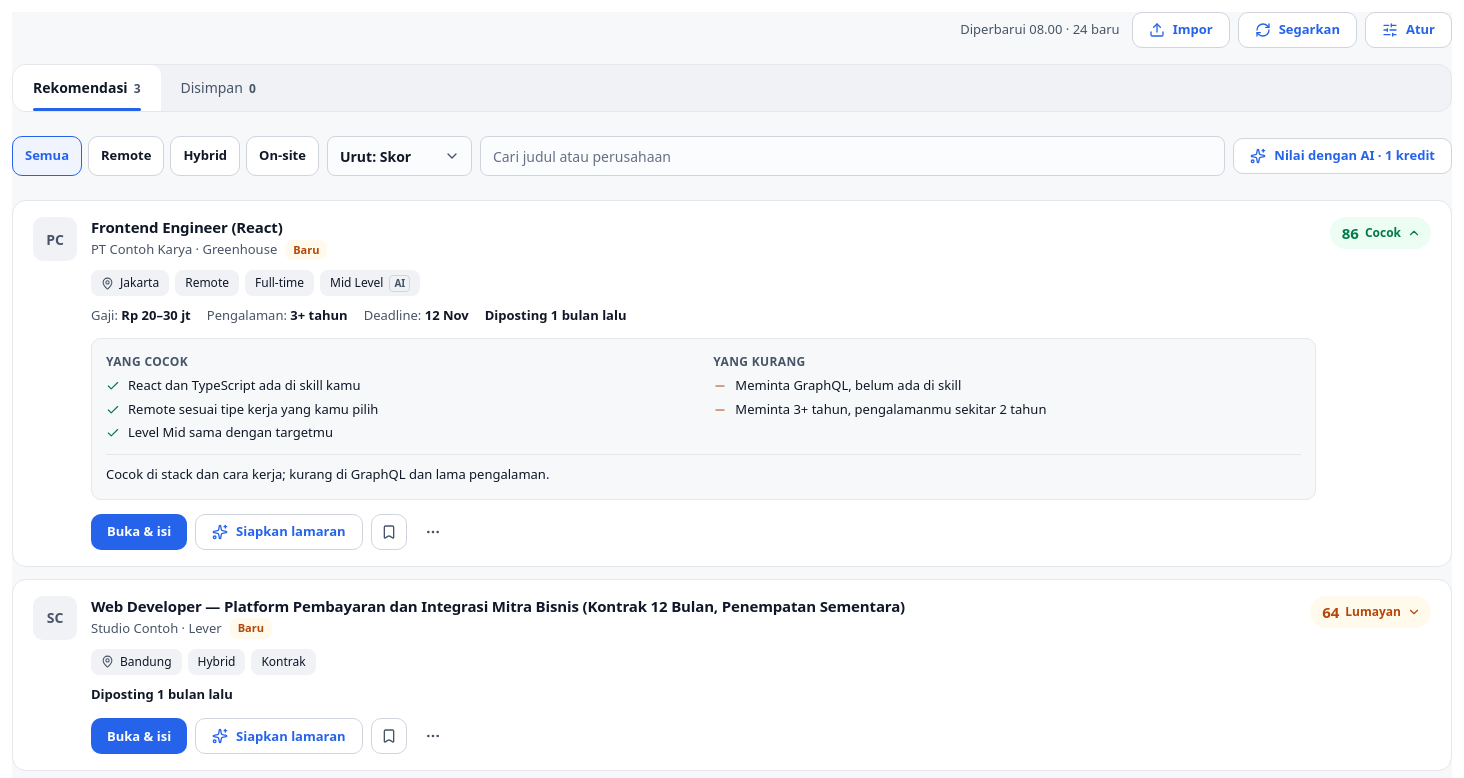
Test: JobsPage: Nilai dengan AI › shows a refusal as it came
Click the button "Nilai dengan AI · 1 kredit" at (1343, 156), box [1233,138,1452,174]
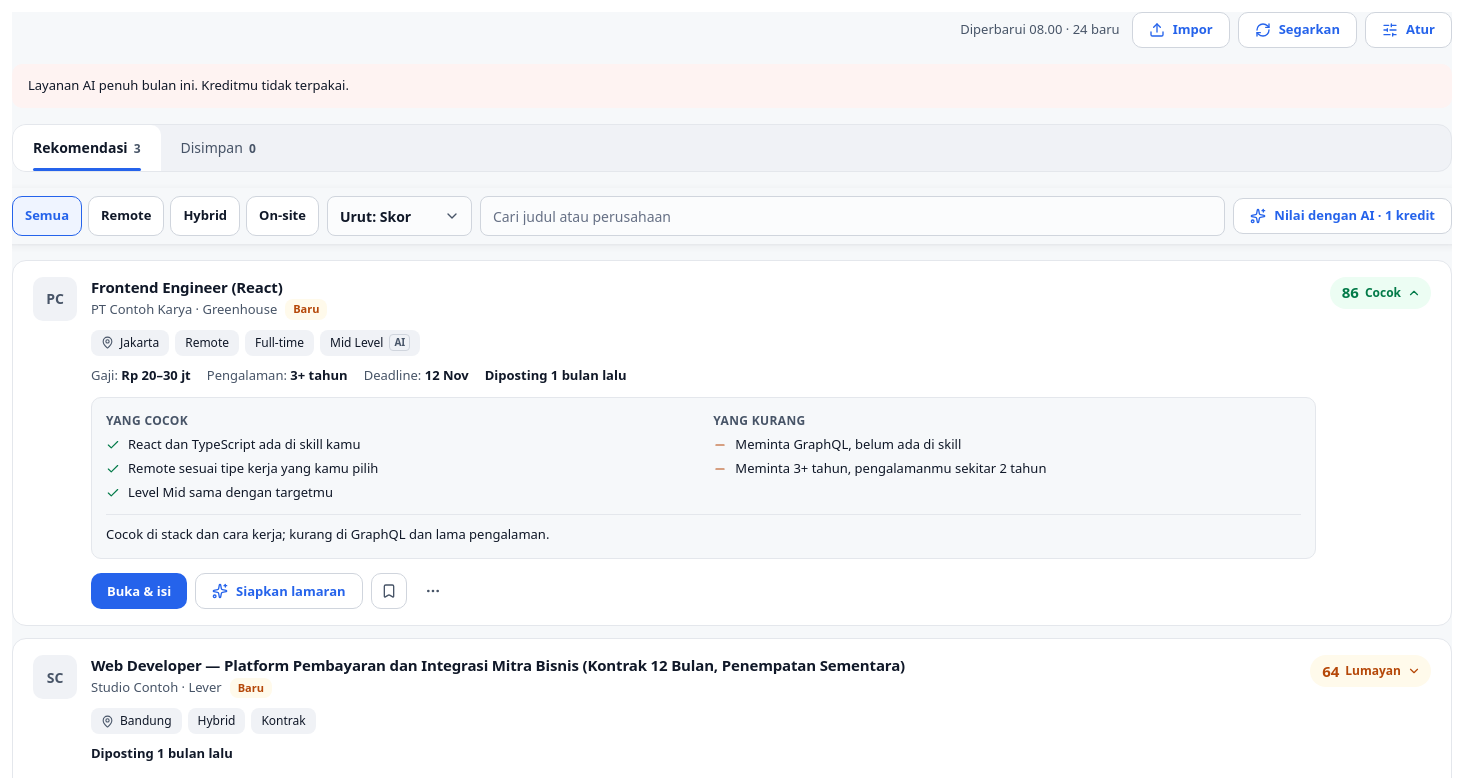
Check: the text "Layanan AI penuh bulan ini. Kreditmu tidak terpakai." is shown, box [12,64,1452,108]
